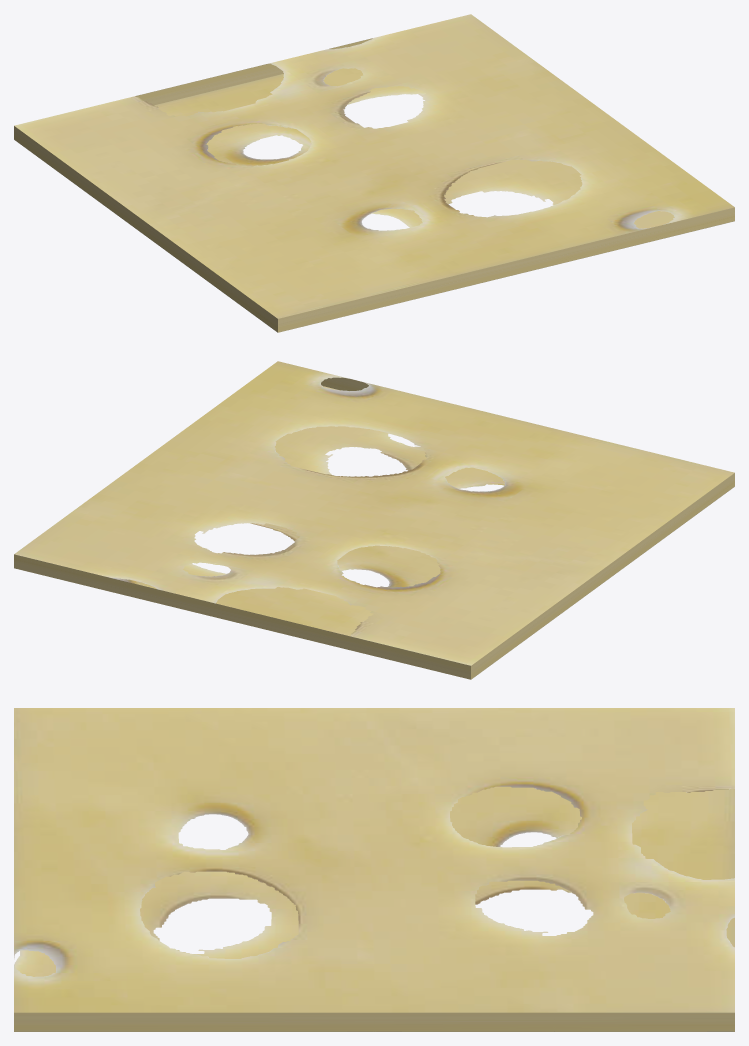
The model's file is squarecheese1.fbx.
3 views of the same model, one above another, from view 1: azimuth 30°, elevation 25°; view 2: azimuth 150°, elevation 25°; view 3: azimuth 270°, elevation 25° (orthographic). The views are drawn at different scales.
Parts seen in each view (by area): view 1: pCube19; view 2: pCube19; view 3: pCube19.
Part boxes in pixels (<box>): pCube19: <box>14,14,734,332</box>; pCube19: <box>14,361,734,679</box>; pCube19: <box>14,708,734,1031</box>.
Bounding box in the file's own units: 9.03 × 0.2636 × 9.03.
